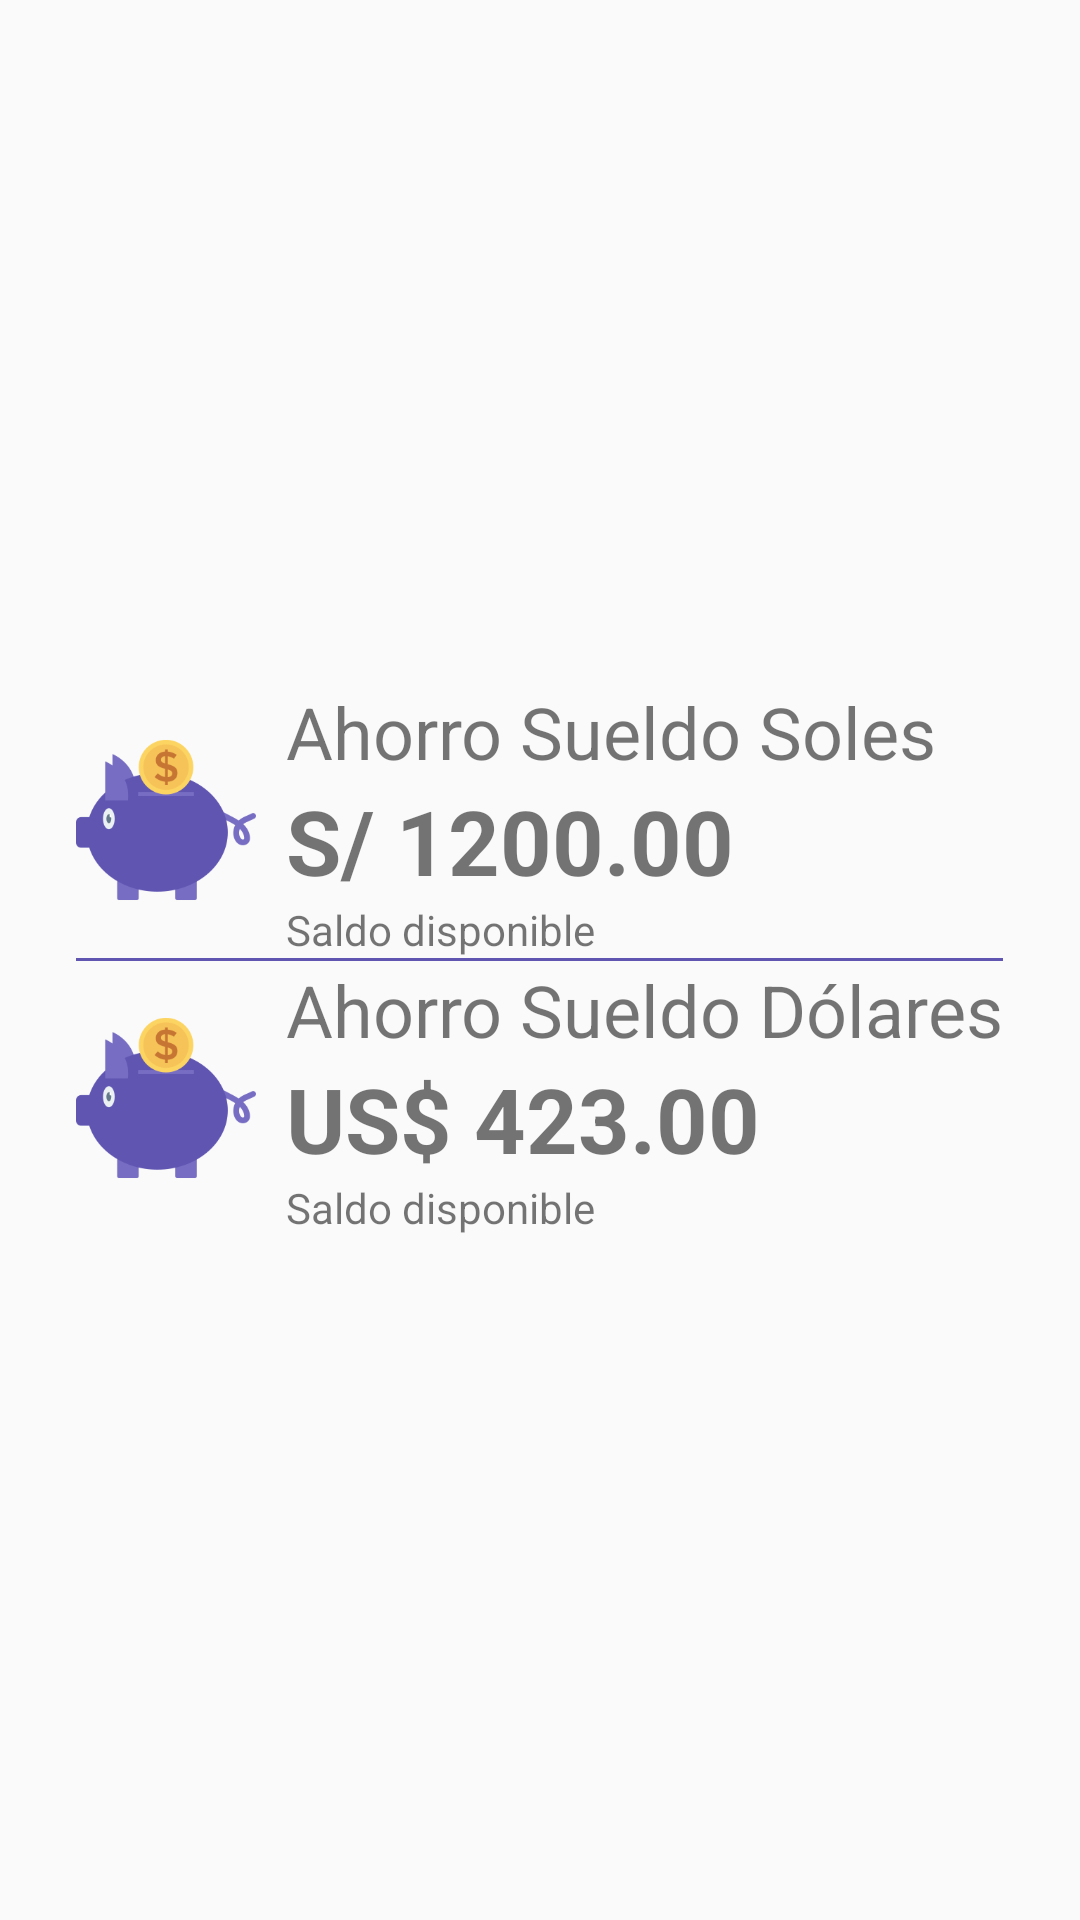

Screen size 1080*1920. Icon name, then its box in pixels as (x1, y1, x2, y2):
piggybank: (76, 740, 256, 900), (76, 1018, 256, 1178)
